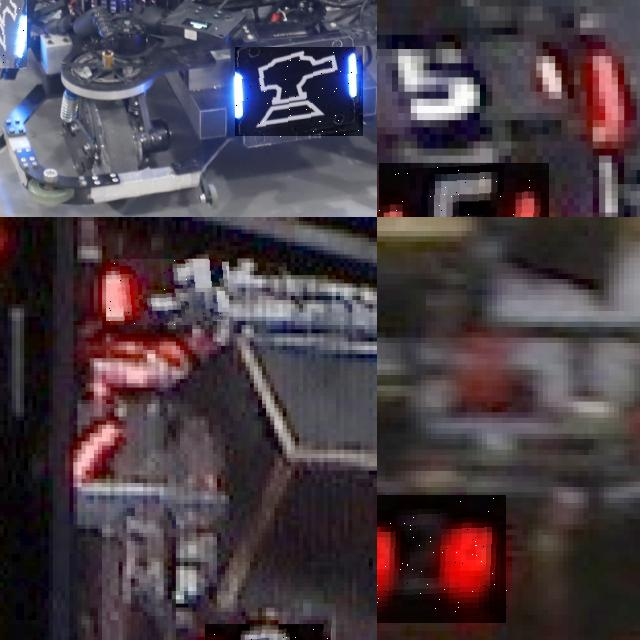Bs: (235, 48, 363, 138), (0, 0, 26, 68)
R1: (106, 259, 229, 325)
R2: (377, 495, 507, 623)
R5: (379, 163, 548, 217)
